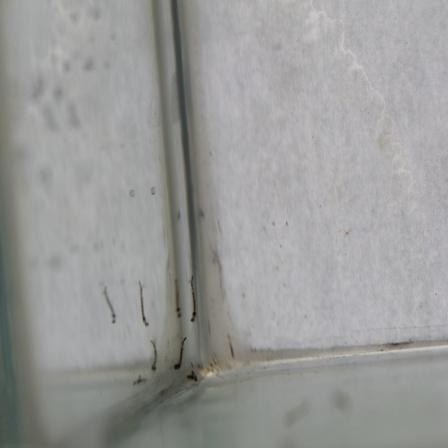Jentik-Nyamuk: (186, 274, 203, 327), (170, 330, 189, 374), (170, 276, 184, 321)
